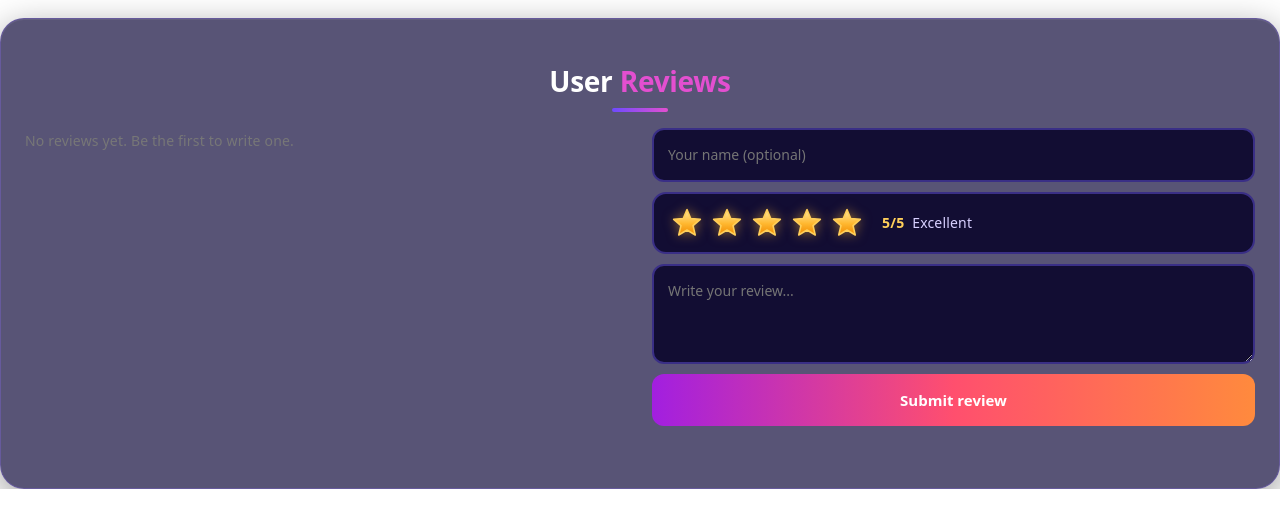
it: Reviews star rating › hovering only previews a rating; clicking selects it
Hover over the radio button named "2 stars" at (727, 223), box [708,204,746,242]
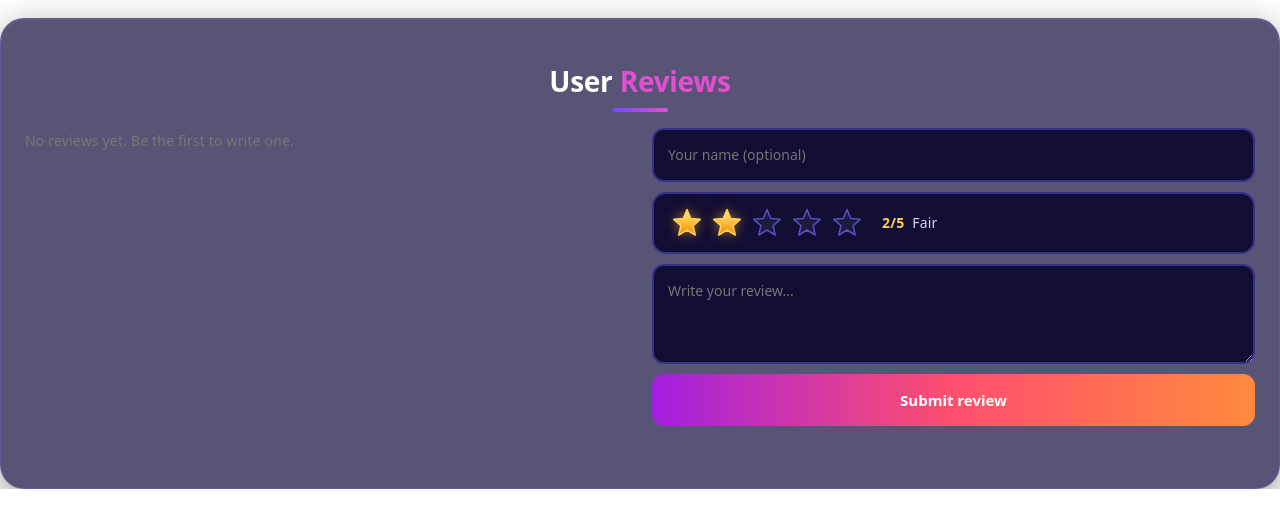
Now the text "Fair" is shown, box [912,213,937,232]
Move the pointer off the element named "Rating", box [668,204,866,242]
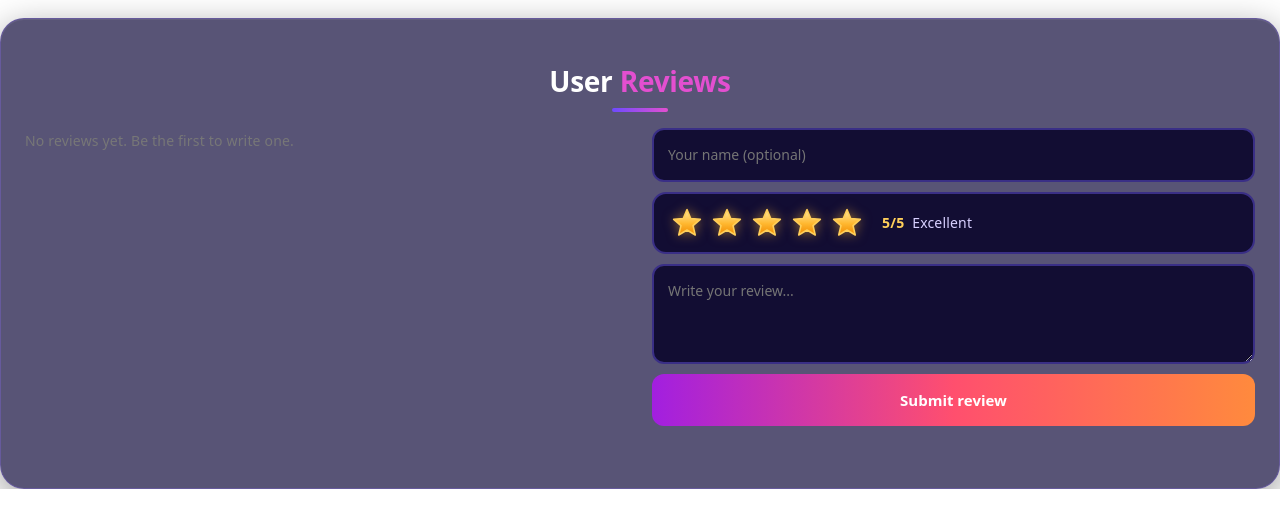
Now the text "Excellent" is shown, box [912,213,972,232]
Click the radio button named "4 stars" at (807, 223), box [788,204,826,242]
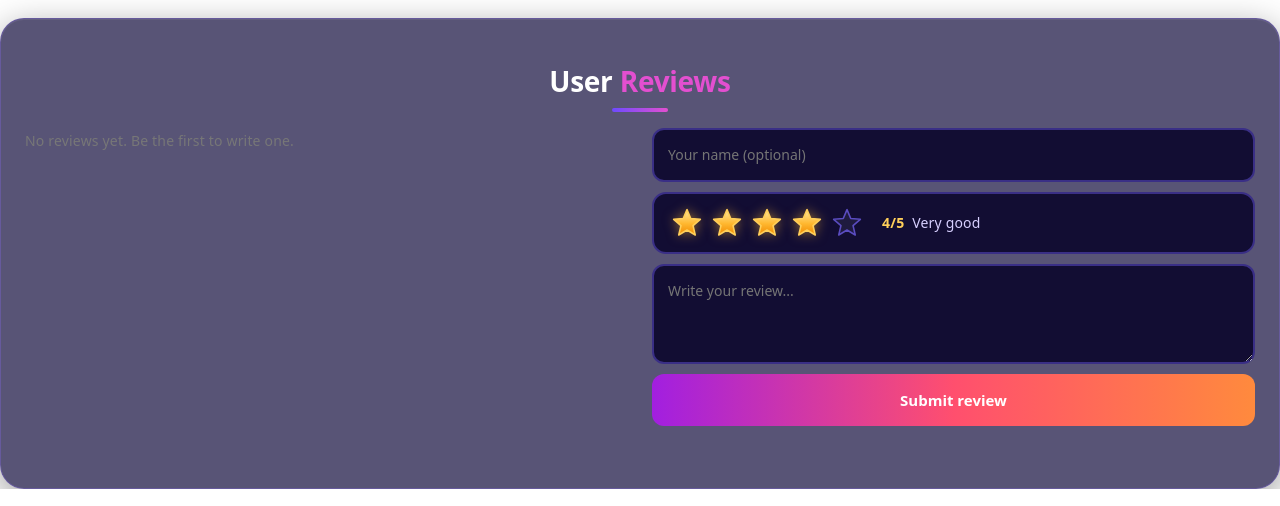
Now the text "Very good" is shown, box [912,213,981,232]
